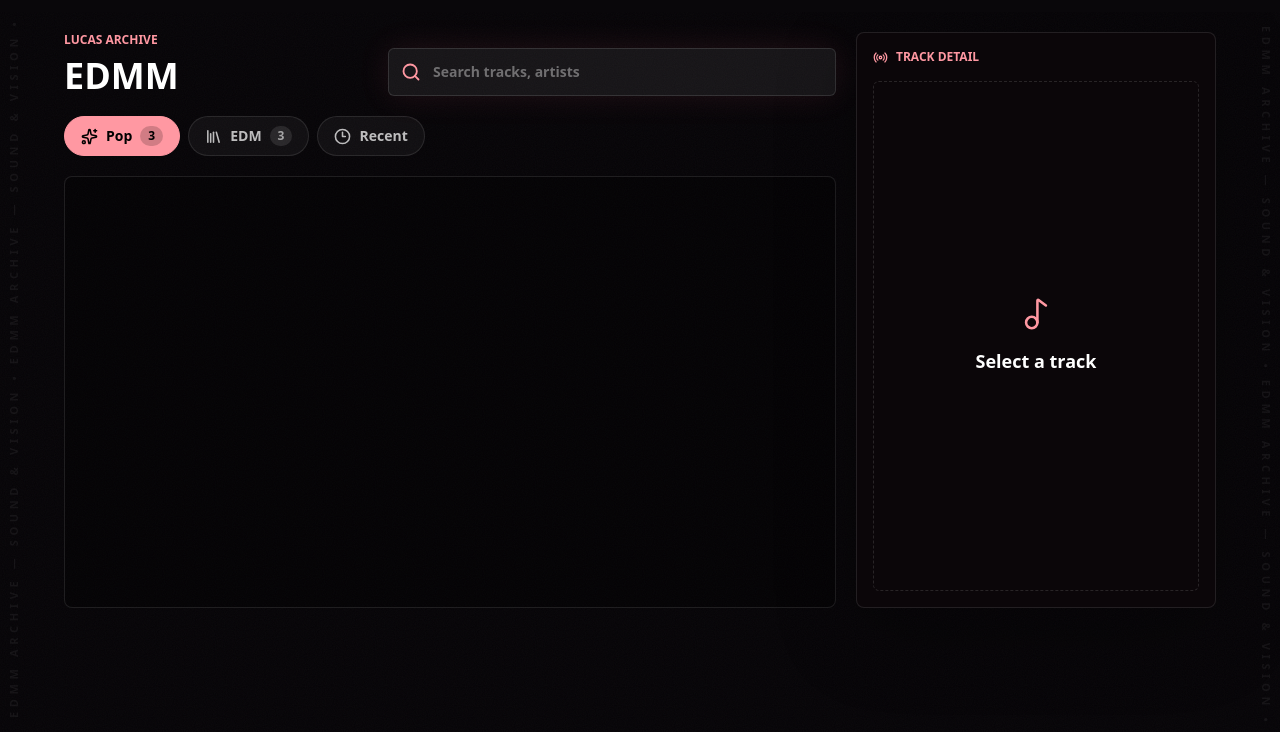
Test: MusicShell › shows cached recent tracks in the Recent view
Click the button "Recent".
click(371, 136)  # box x1=318 y1=116 x2=425 y2=156
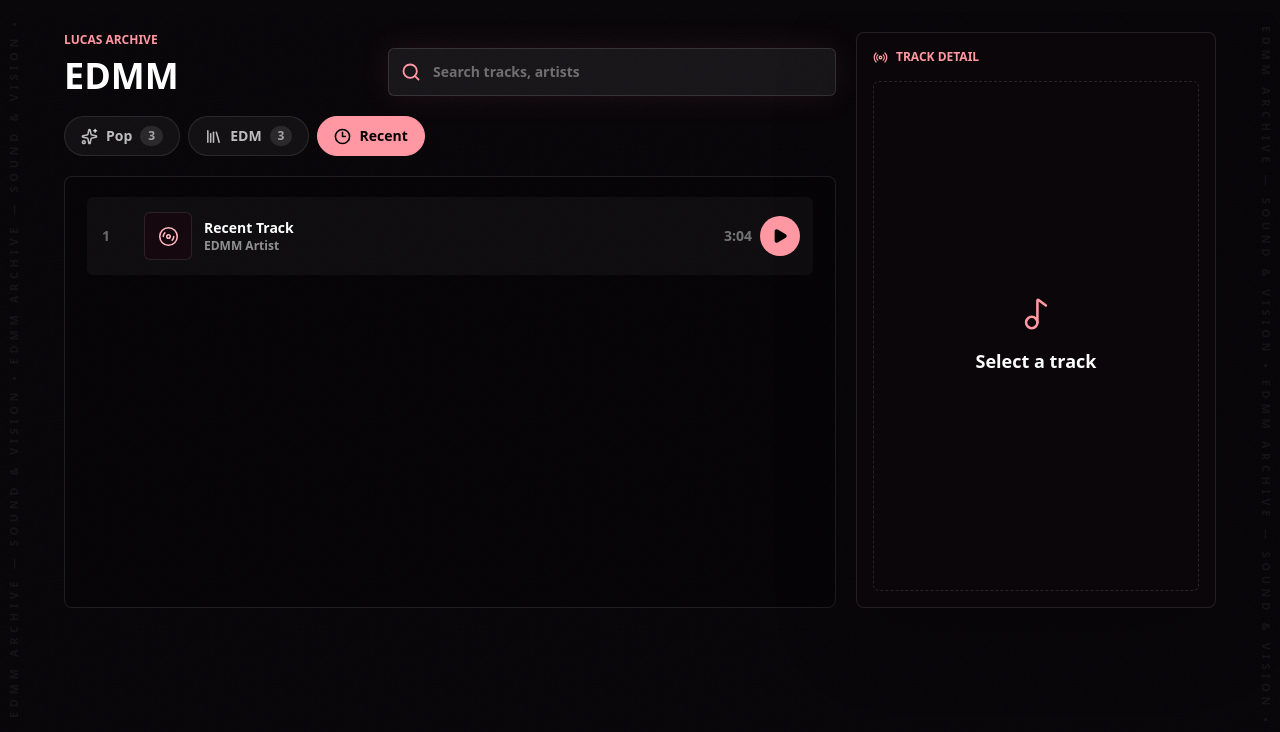
Check: the button with aria-label "Select Recent Track" is shown, box x1=96 y1=206 x2=704 y2=266
